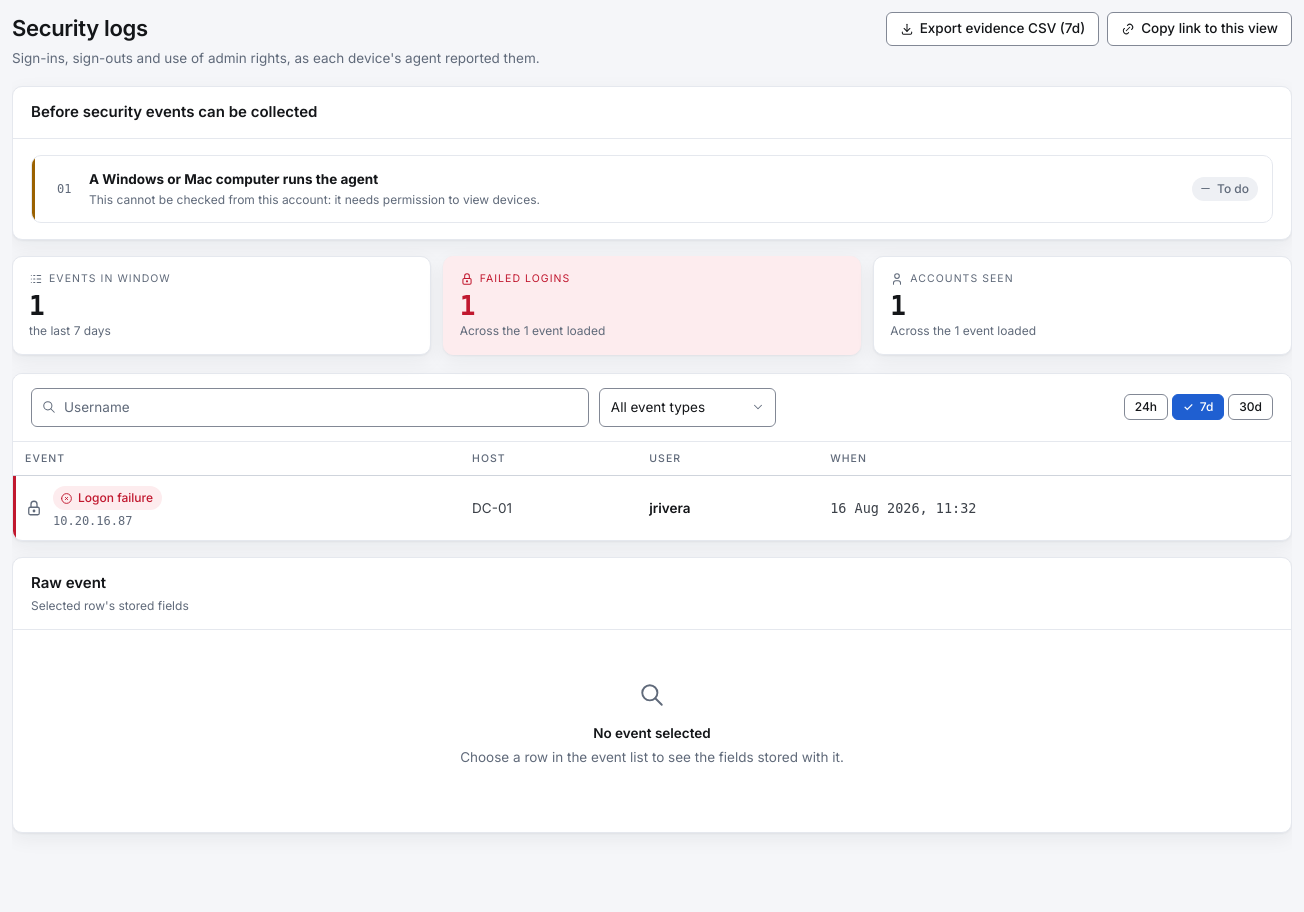
SecurityPage's raw-event panel › announces a refused detail fetch instead of falling back to 'Select an event.'
Step 1. Click the text "DC-01" → (652,508), box [13,476,1291,540]
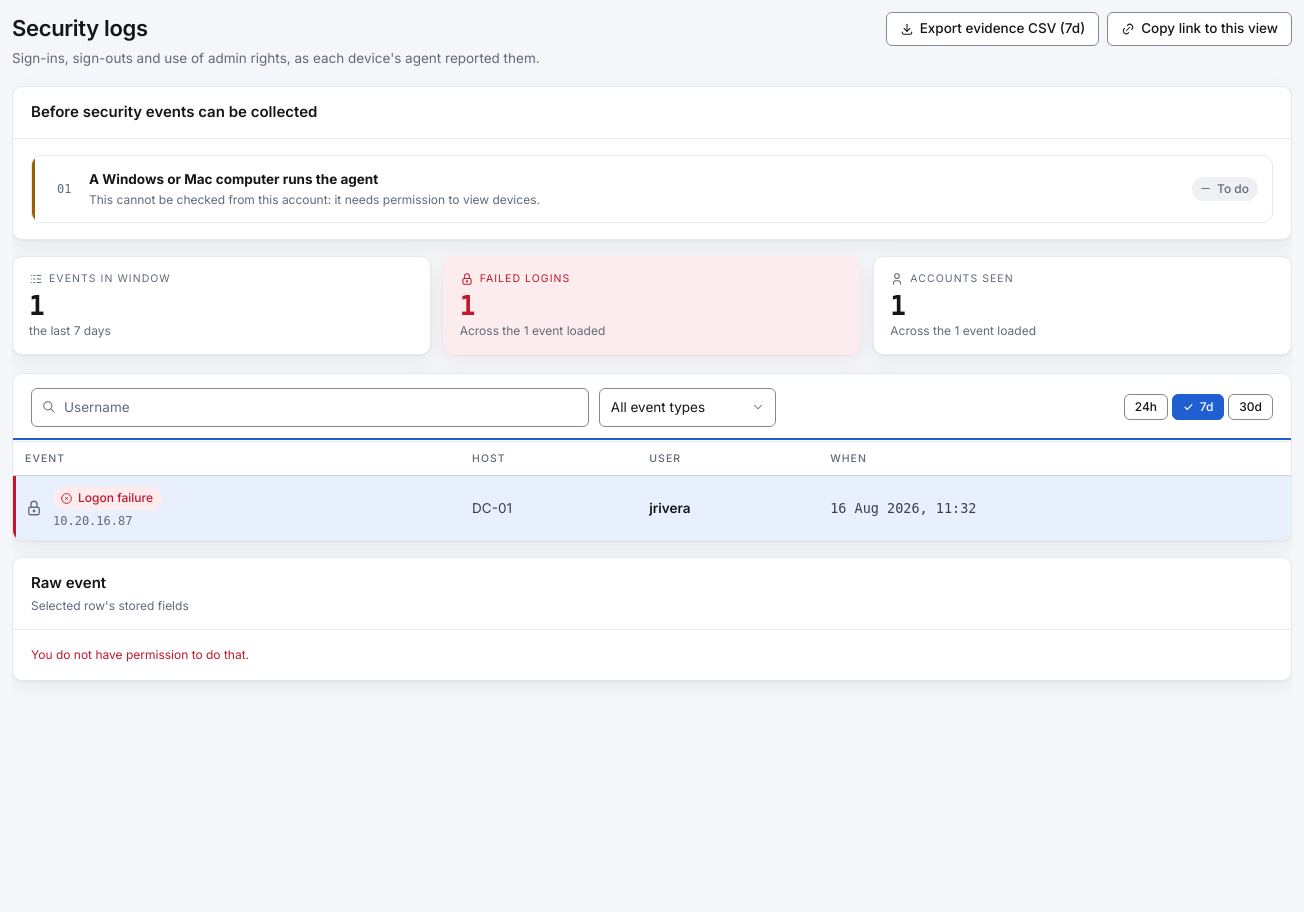
Expected: the message does not show ""
Expected: the message shows "permission", [31,647,249,662]
Expected: the heading "No event selected" is gone
